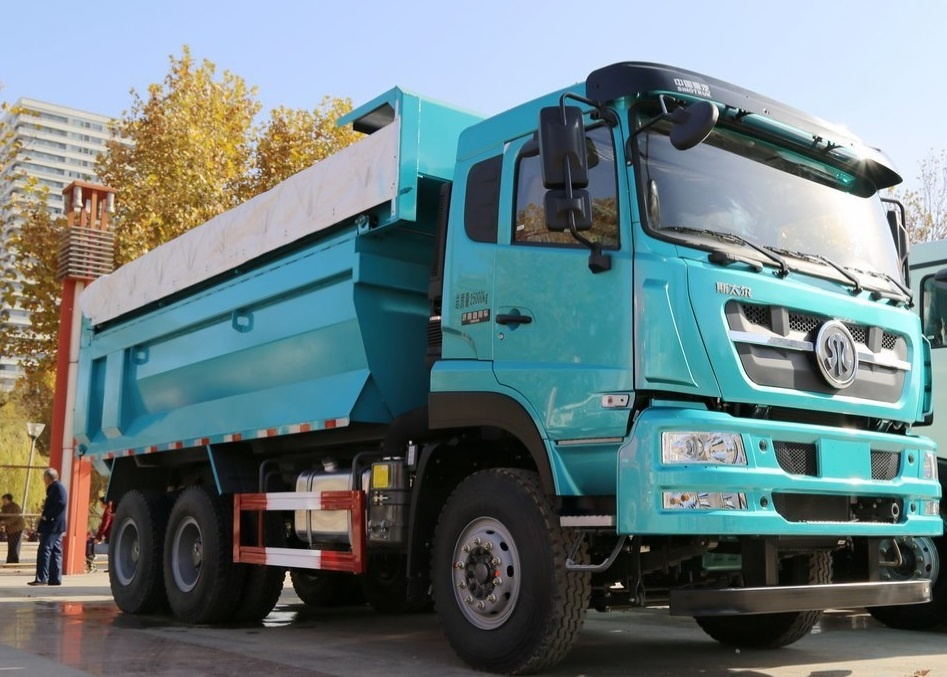heavy truck: (52, 39, 933, 653)
